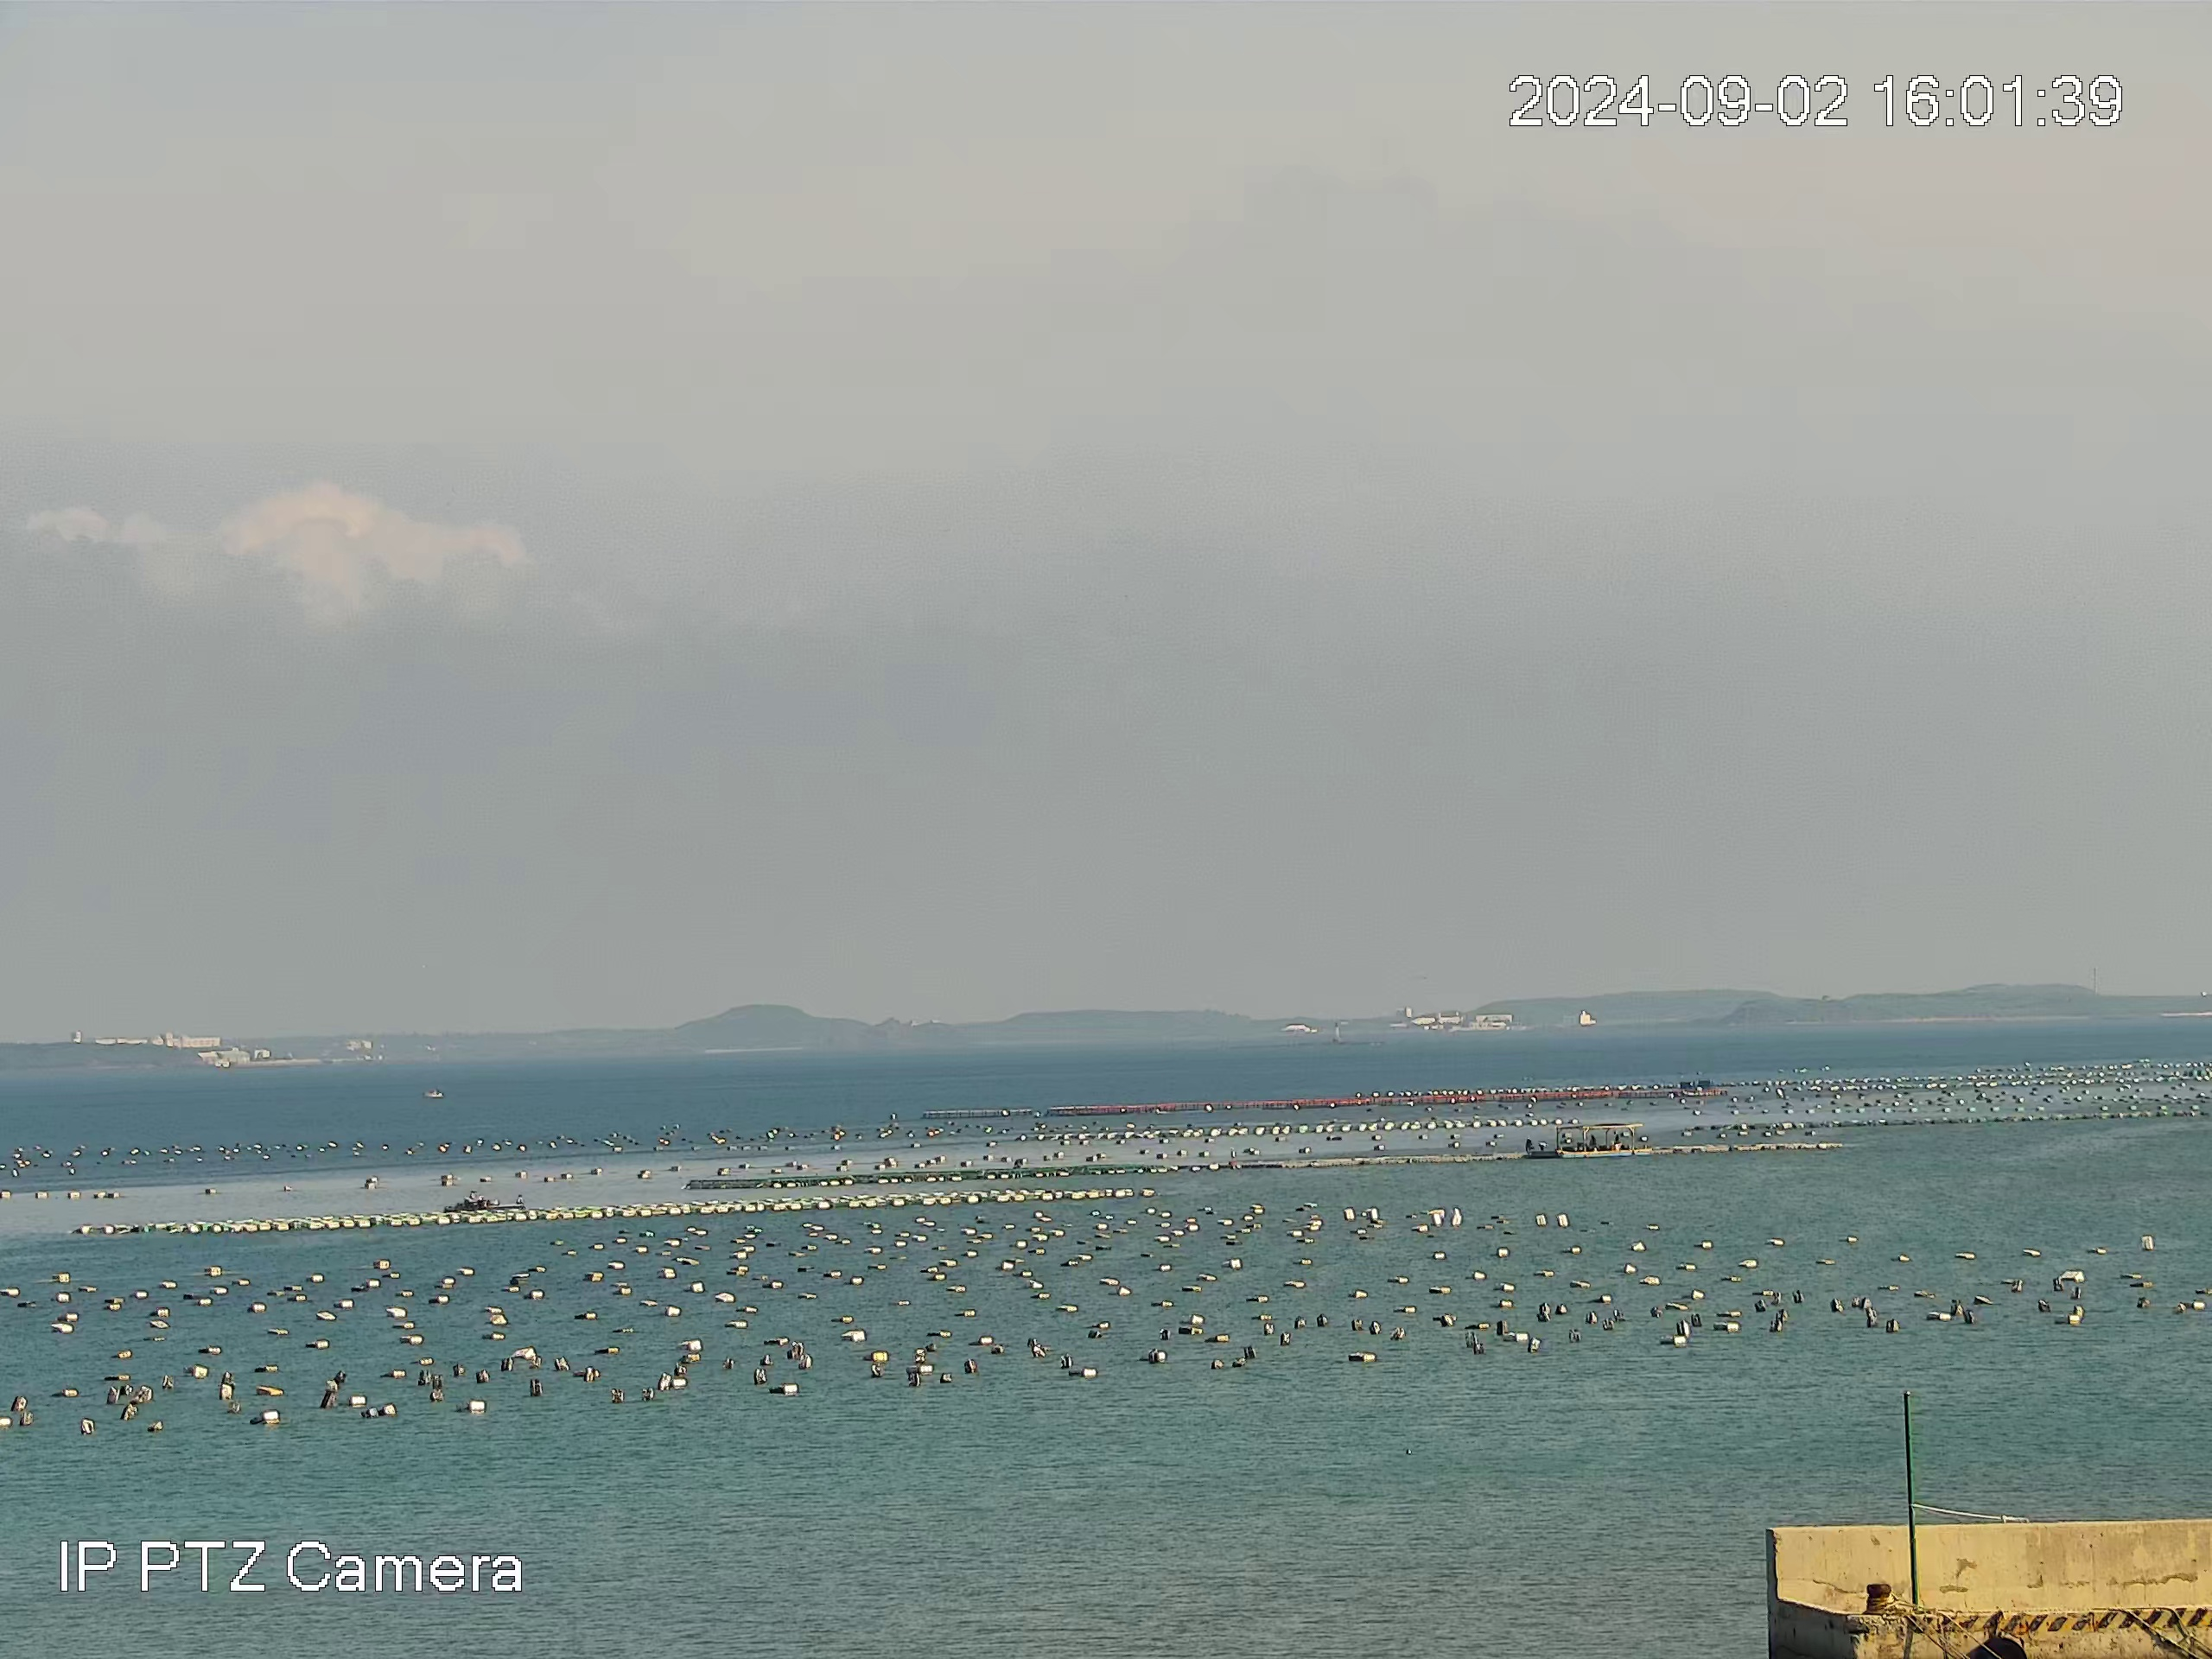boat: (1554, 1122, 1653, 1159), (442, 1190, 528, 1213), (423, 1087, 444, 1100)
